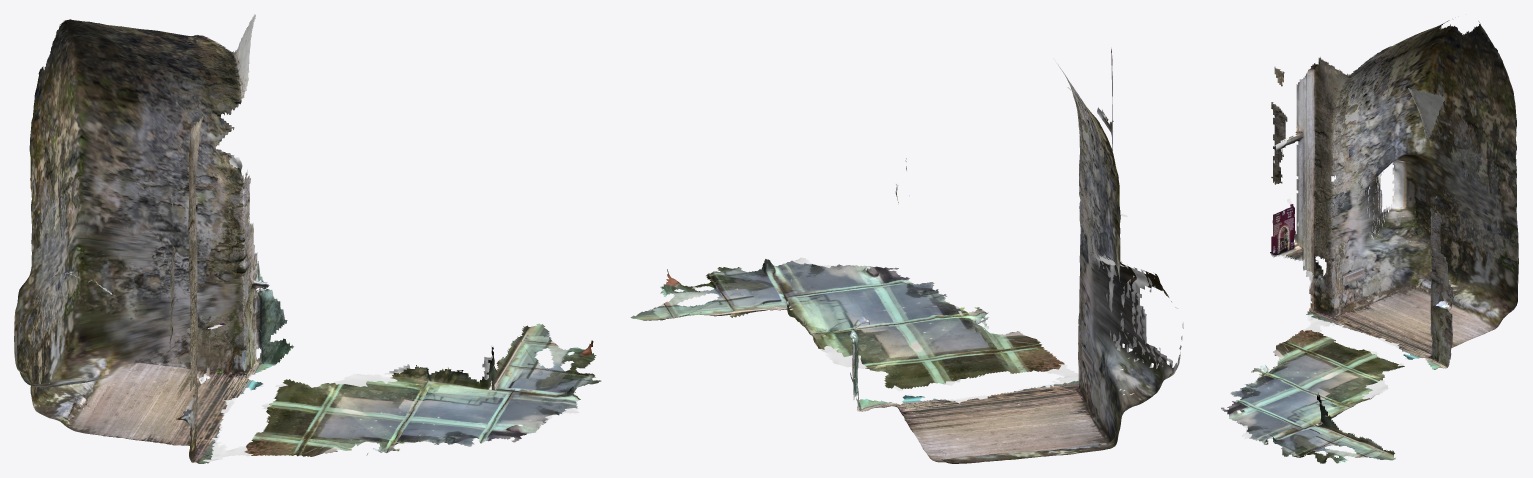
The picture shows the model from 3 angles, left to right: view 1: azimuth 30°, elevation 25°; view 2: azimuth 150°, elevation 25°; view 3: azimuth 270°, elevation 25°; orthographic projection. The views are drawn at different scales.
Visible parts, largest first — view 1: texture_2, texture_1, texture_3, texture_0, object 1; view 2: texture_0, texture_2, texture_3, texture_1, object 1; view 3: texture_2, texture_1, texture_3, texture_0, object 1.
Part boxes in pixels (box(x1,y1,x2,y2)): texture_2: box(14, 155, 601, 427); texture_1: box(29, 15, 255, 348); texture_3: box(44, 261, 293, 463); texture_0: box(244, 347, 580, 456); object 1: box(49, 14, 579, 461); texture_0: box(710, 259, 1064, 389); texture_2: box(630, 192, 1183, 463); texture_3: box(850, 255, 1156, 458); texture_1: box(905, 49, 1120, 277); object 1: box(663, 49, 1182, 403); texture_2: box(1236, 127, 1518, 463); texture_1: box(1271, 20, 1516, 193); texture_3: box(1270, 176, 1492, 369); texture_0: box(1221, 330, 1404, 454); object 1: box(1237, 27, 1474, 462).
Size of the model in its own units: 6.01 by 4.12 by 3.79.
Materials: 5 (4 with a texture image).
